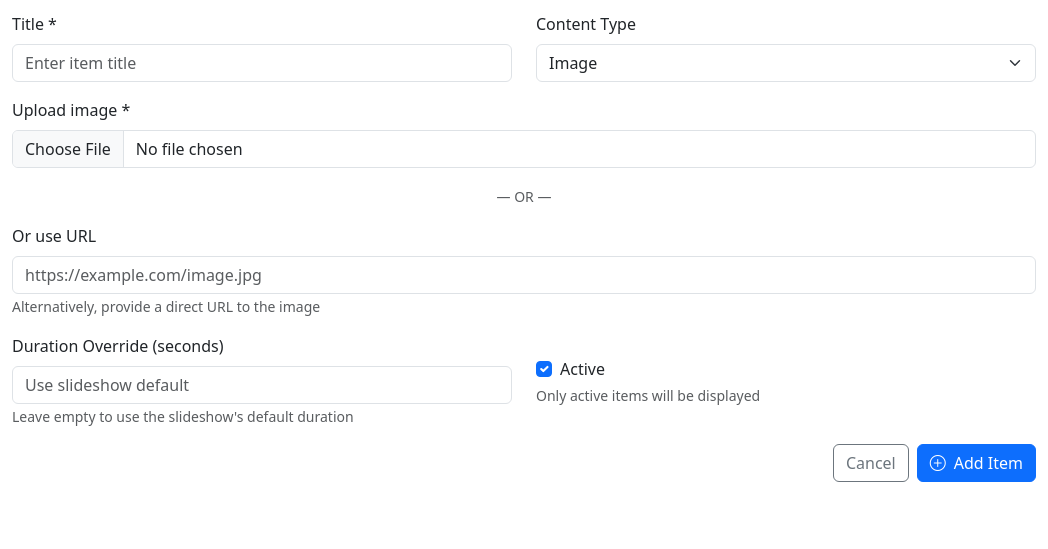
Test: SlideshowItemForm › handles validation errors
Note: Submit empty form
What coordinates should you click on to do the following:
click the button "Add Item"
I would click on:
 (976, 463)
Its box is [917,444,1036,482].
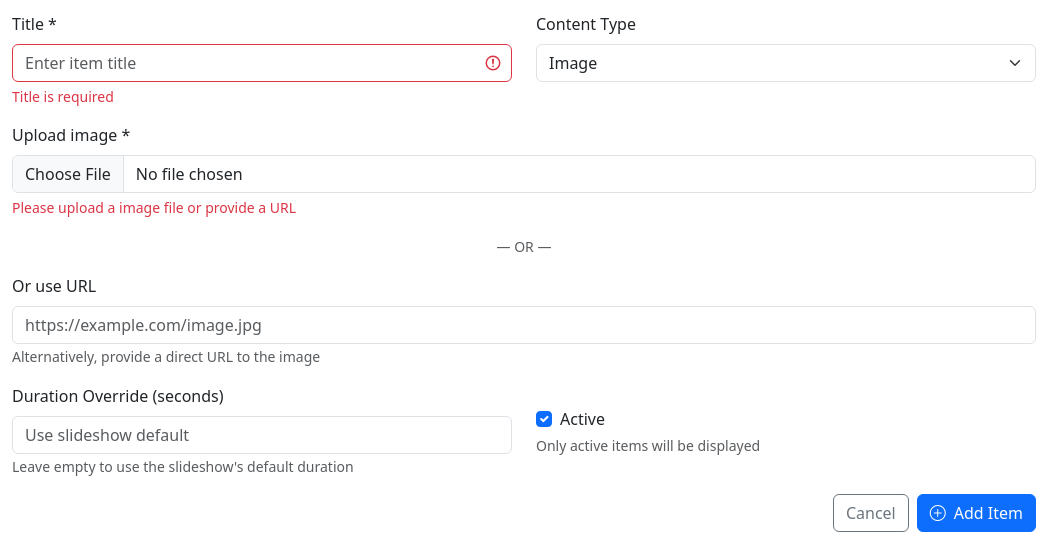
Expected: the text "Title is required" is shown, [12,87,114,106]
